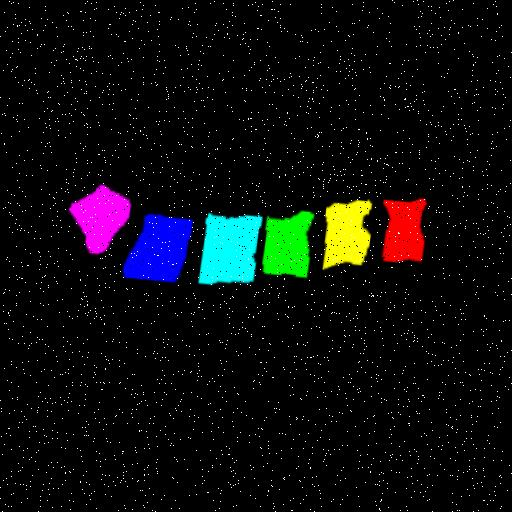L1: (384, 199, 426, 261)
L2: (324, 201, 373, 268)
L3: (263, 212, 315, 278)
L4: (200, 214, 263, 285)
L5: (125, 215, 194, 282)
S1: (71, 185, 131, 254)
